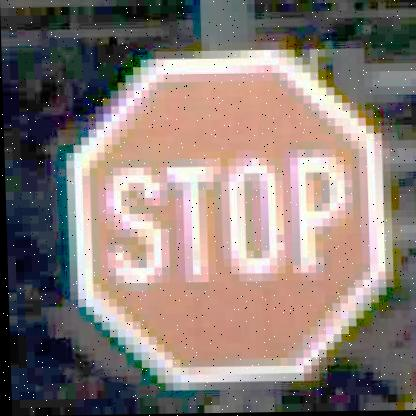Stop Sign: (58, 52, 396, 391)
